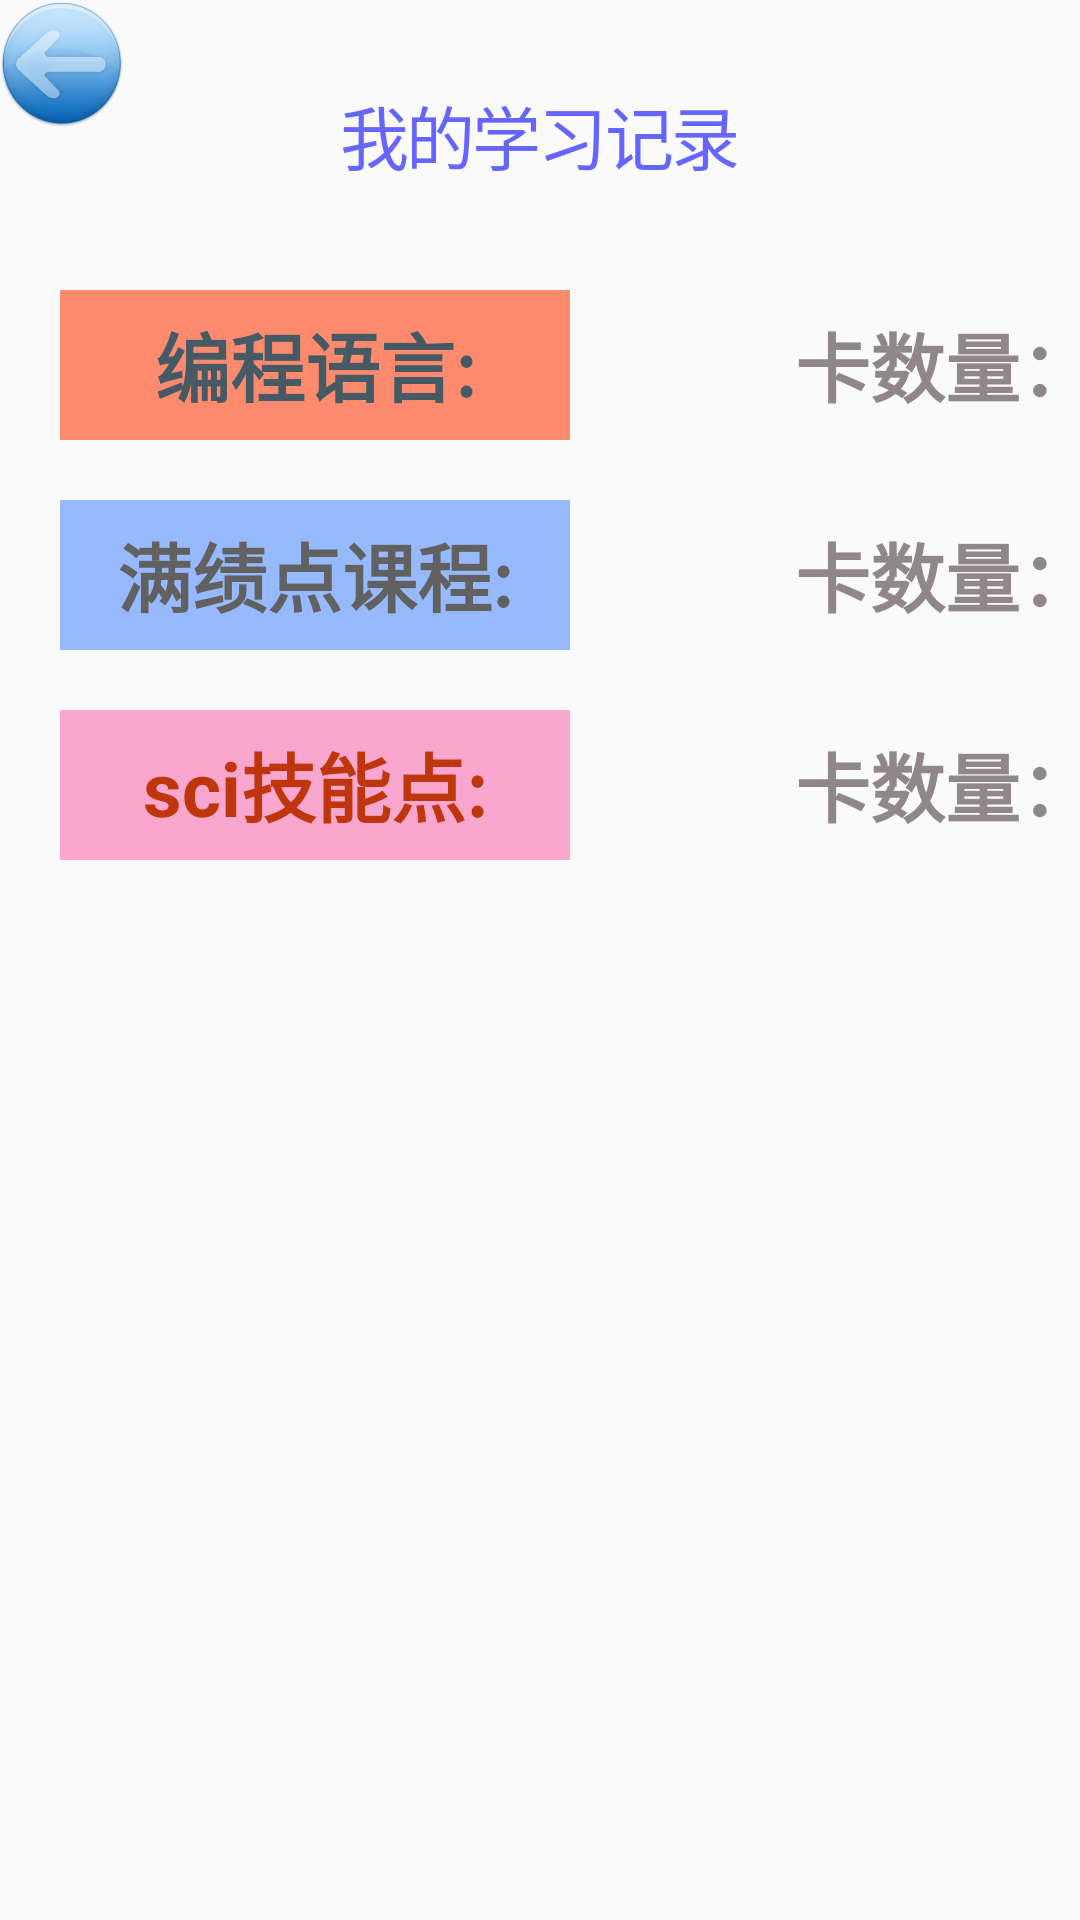

Where icons sit on this 1080px×1920px app screen, as bbox=(x1, y1, x2, y2):
back: bbox=(2, 3, 122, 126)
